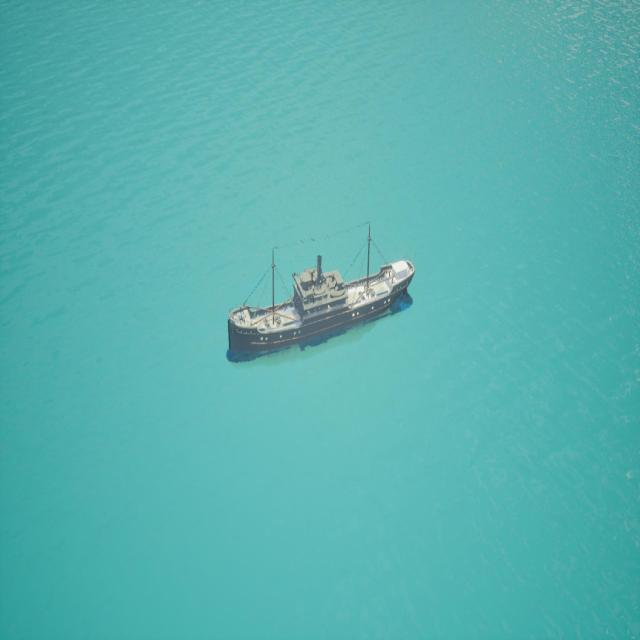fishing ship: (229, 223, 417, 363)
